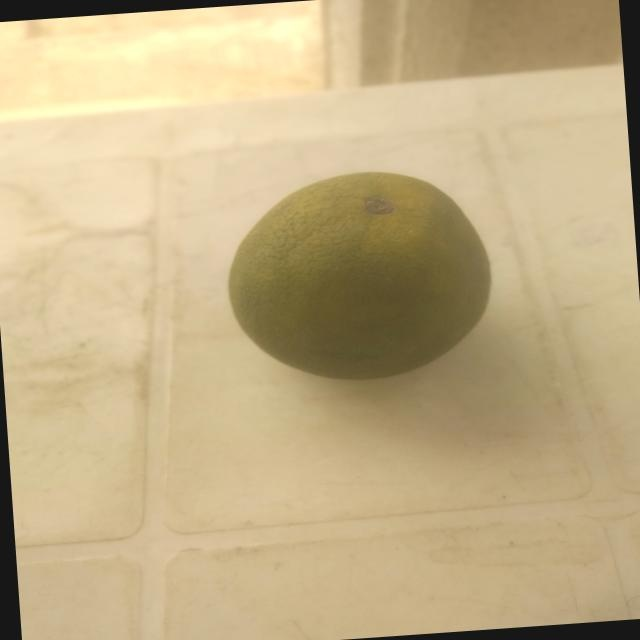agrume: (214, 154, 508, 394)
